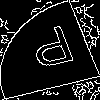P: (25, 25, 82, 79)
